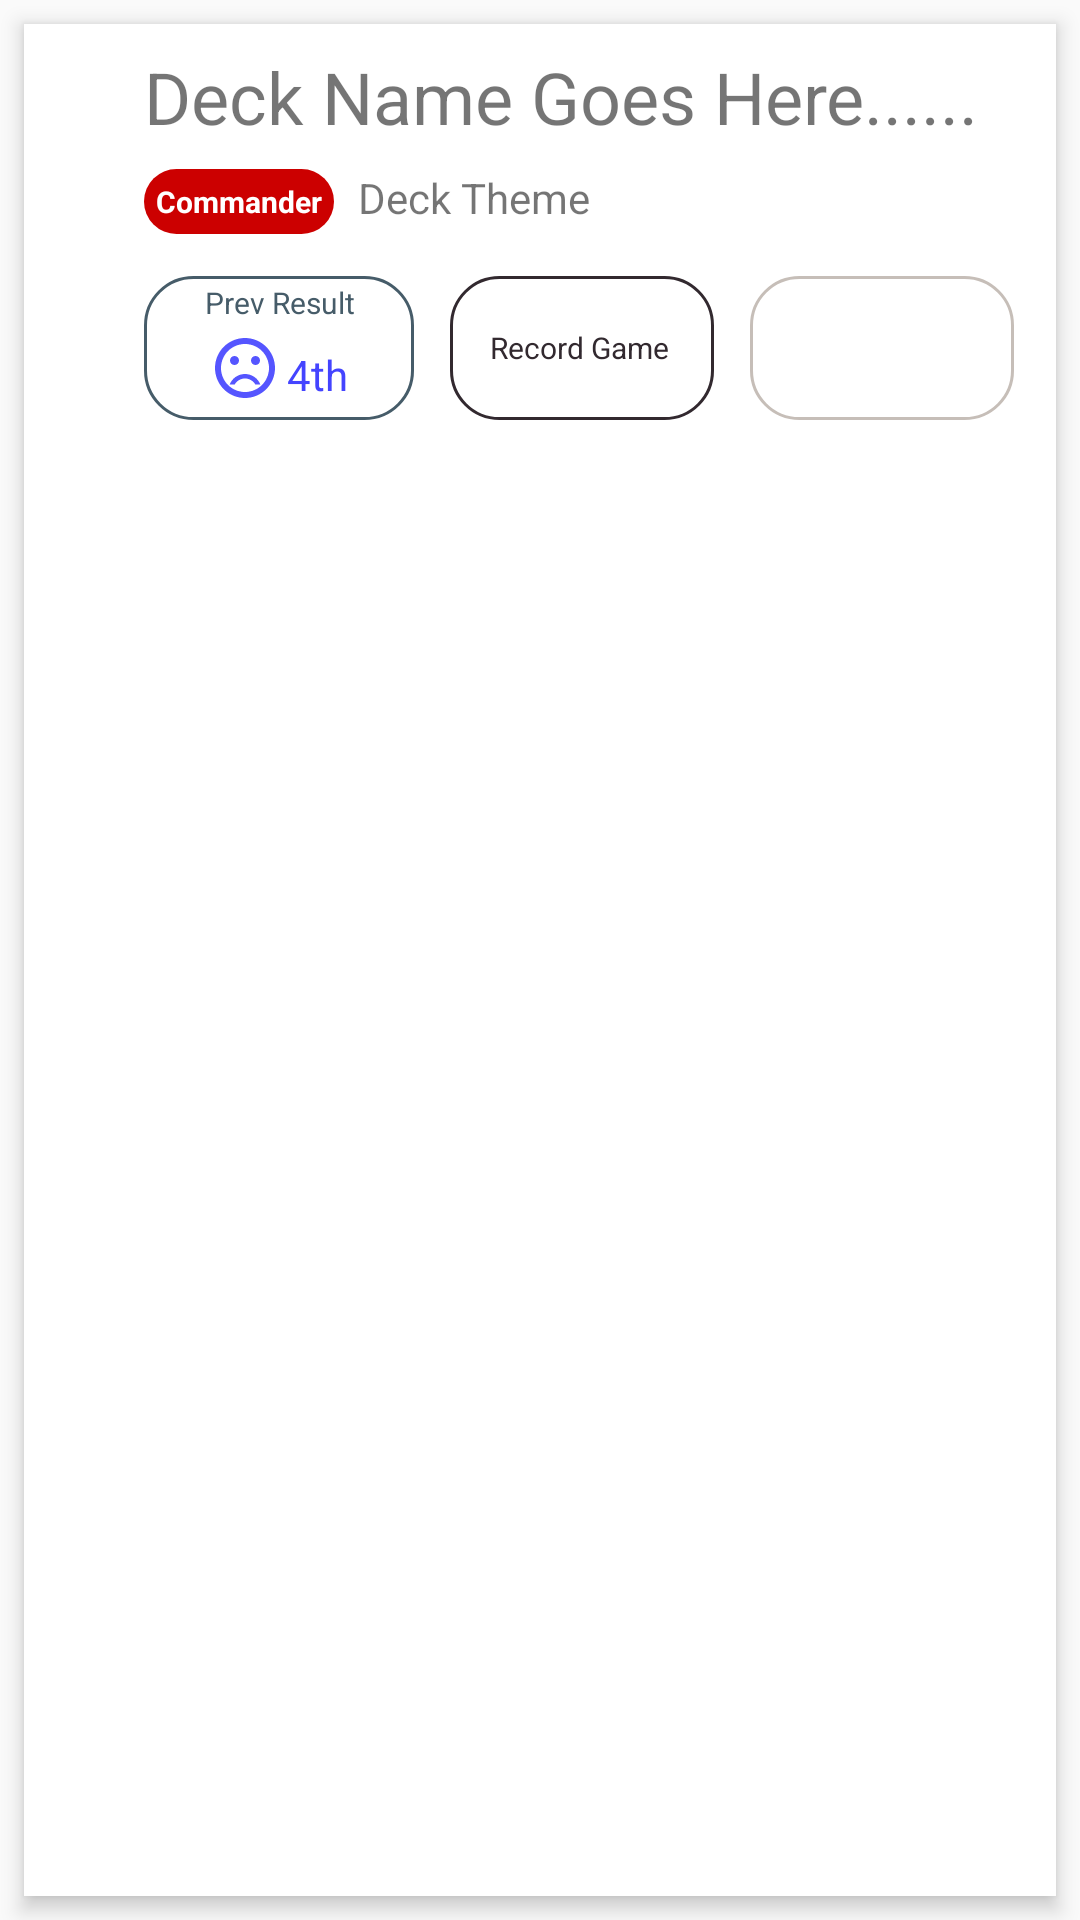

Screen size 1080px×1920px. Icon name, then its box in pixels as (x1, y1, x2, y2):
bad place: (215, 338, 275, 398)
